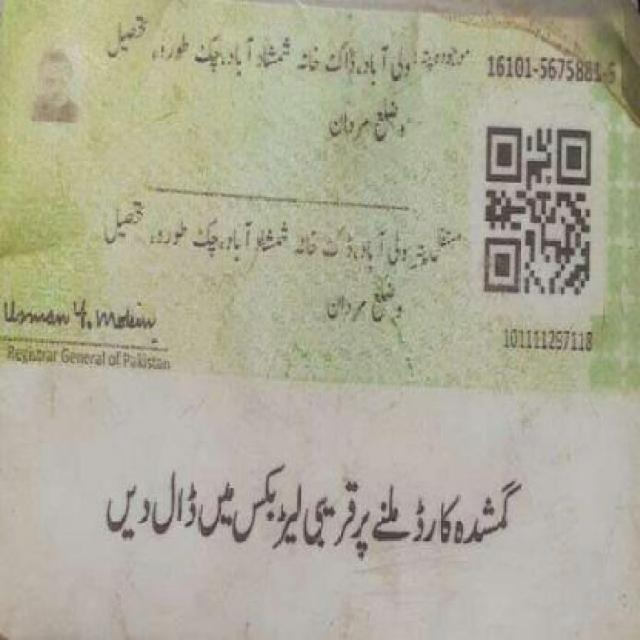Back: (0, 4, 635, 624)
